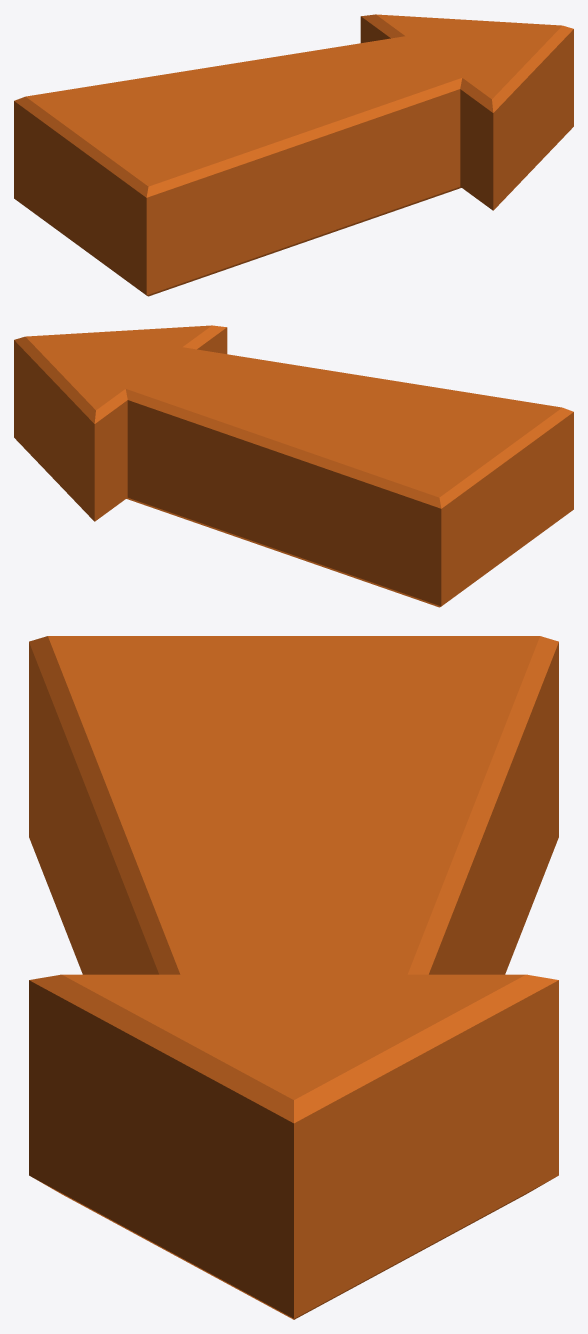
File: arrow.dae
3 views of the same model, one above another, from view 1: azimuth 30°, elevation 25°; view 2: azimuth 150°, elevation 25°; view 3: azimuth 270°, elevation 25° (orthographic). The views are drawn at different scales.
Visible parts, largest first — view 1: skp125B; view 2: skp125B; view 3: skp125B.
Part boxes in pixels (left/top/right/bottom): skp125B: left=14, top=14, right=573, bottom=296; skp125B: left=14, top=325, right=573, bottom=607; skp125B: left=29, top=636, right=558, bottom=1319.
Bounding box in the file's own units: 14.88 × 6.92 × 3.16.
